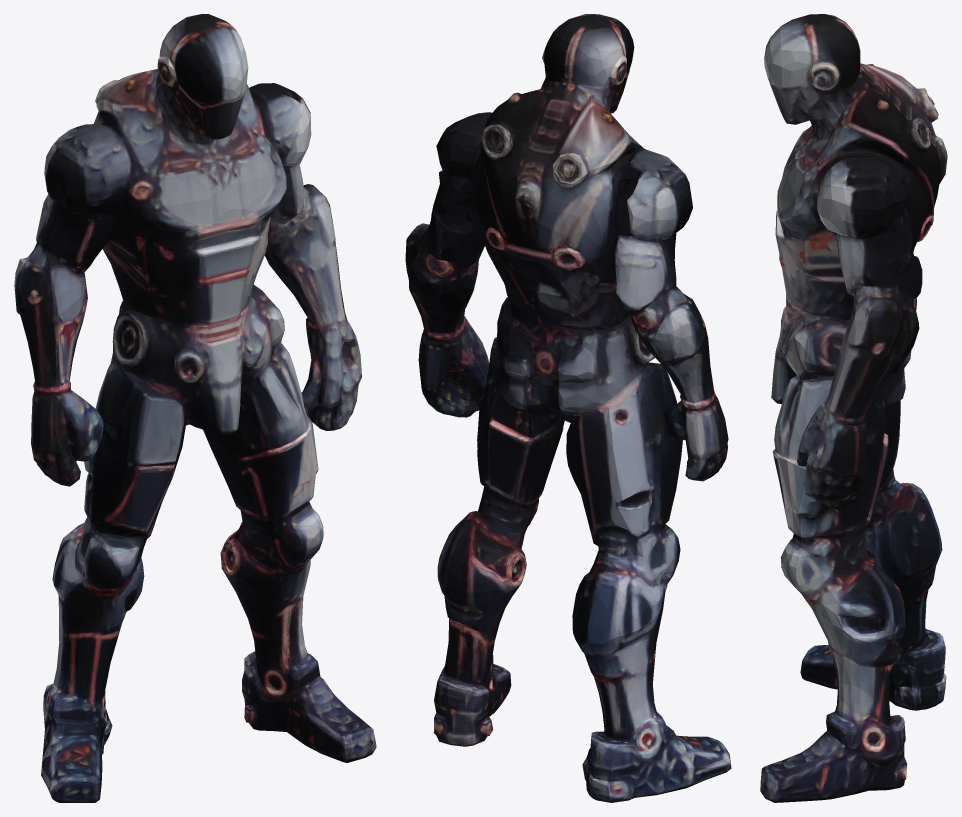
The model's file is RobotModel.glb.
3 renders of one model, left to right at view 1: azimuth 30°, elevation 25°; view 2: azimuth 150°, elevation 25°; view 3: azimuth 270°, elevation 25°, orthographic. The views are drawn at different scales.
Visible parts, largest first — view 1: world; view 2: world; view 3: world.
Part boxes in pixels (x1,y1,x2,y2): world: [14, 14, 376, 802]; world: [405, 14, 731, 802]; world: [760, 14, 947, 802].
Bounding box in the file's own units: 0.4409 × 1 × 0.2369.
1 material, 1 textured.
